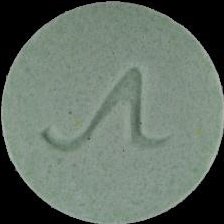50090-0149: (0, 0, 224, 224)
